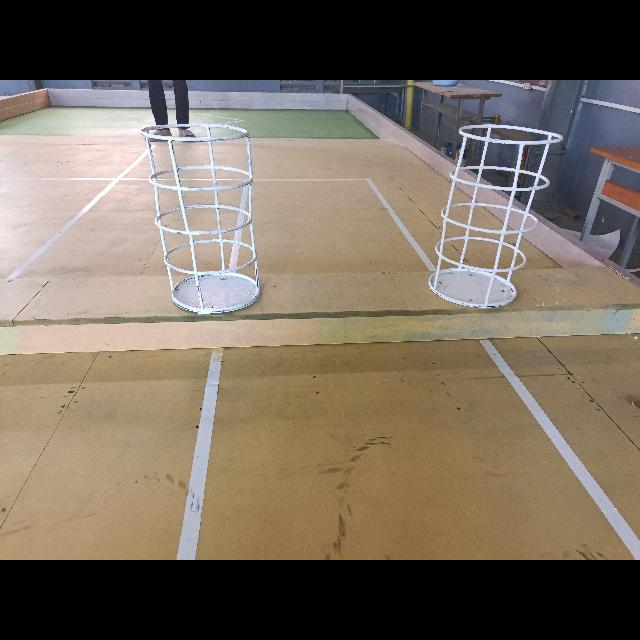S: (428, 122, 568, 309), (141, 121, 267, 316)
